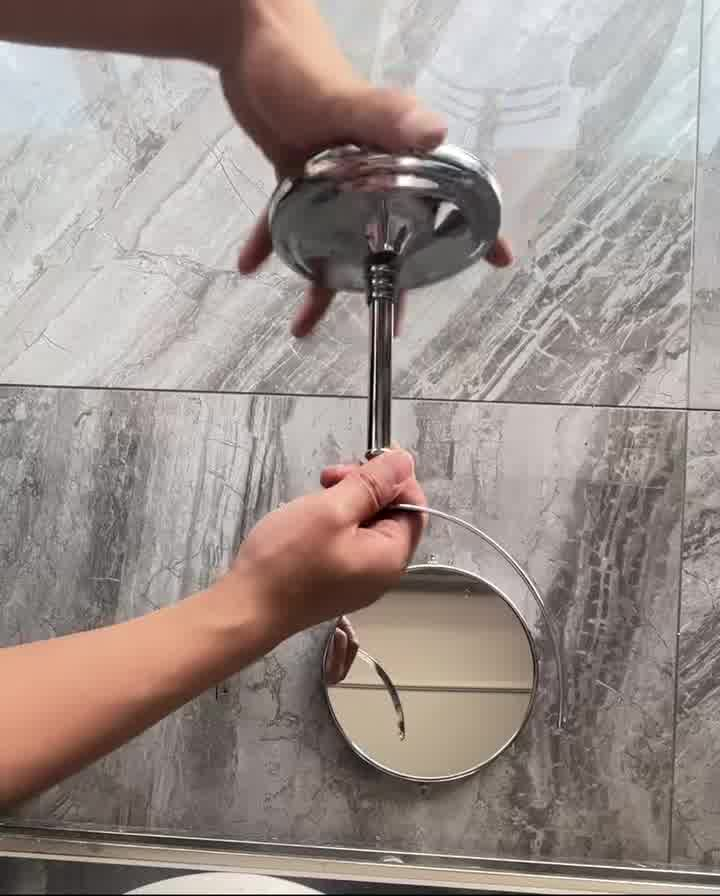base: (251, 118, 536, 304)
frame: (224, 288, 595, 737)
mirror: (318, 564, 545, 781)
